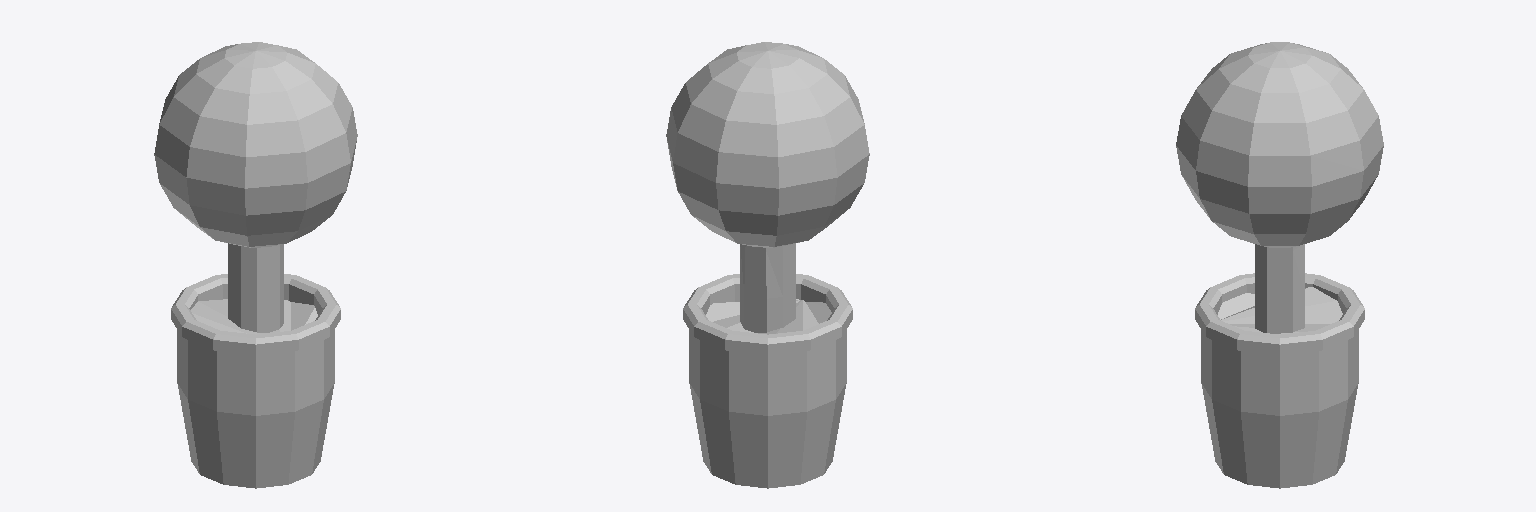
The model's file is plantpot.obj.
3 views of the same model, side by side, from view 1: azimuth 30°, elevation 25°; view 2: azimuth 150°, elevation 25°; view 3: azimuth 270°, elevation 25° (orthographic).
Visible parts, largest first — view 1: Sphere, Cylinder, Cube, Cylinder.001; view 2: Sphere, Cylinder, Cube, Cylinder.001; view 3: Sphere, Cylinder, Cube, Cylinder.001.
Part boxes in pixels (x1,y1,x2,y2): Sphere: (154, 42, 357, 247); Cylinder: (171, 274, 340, 488); Cube: (228, 243, 283, 332); Cylinder.001: (191, 299, 317, 334); Sphere: (666, 42, 869, 247); Cylinder: (683, 274, 852, 488); Cube: (740, 243, 795, 332); Cylinder.001: (706, 299, 831, 334); Sphere: (1176, 42, 1383, 247); Cylinder: (1195, 273, 1364, 488); Cube: (1255, 244, 1304, 333); Cylinder.001: (1218, 287, 1342, 334).
Bounding box in the file's own units: 0.3813 × 0.8729 × 0.401.